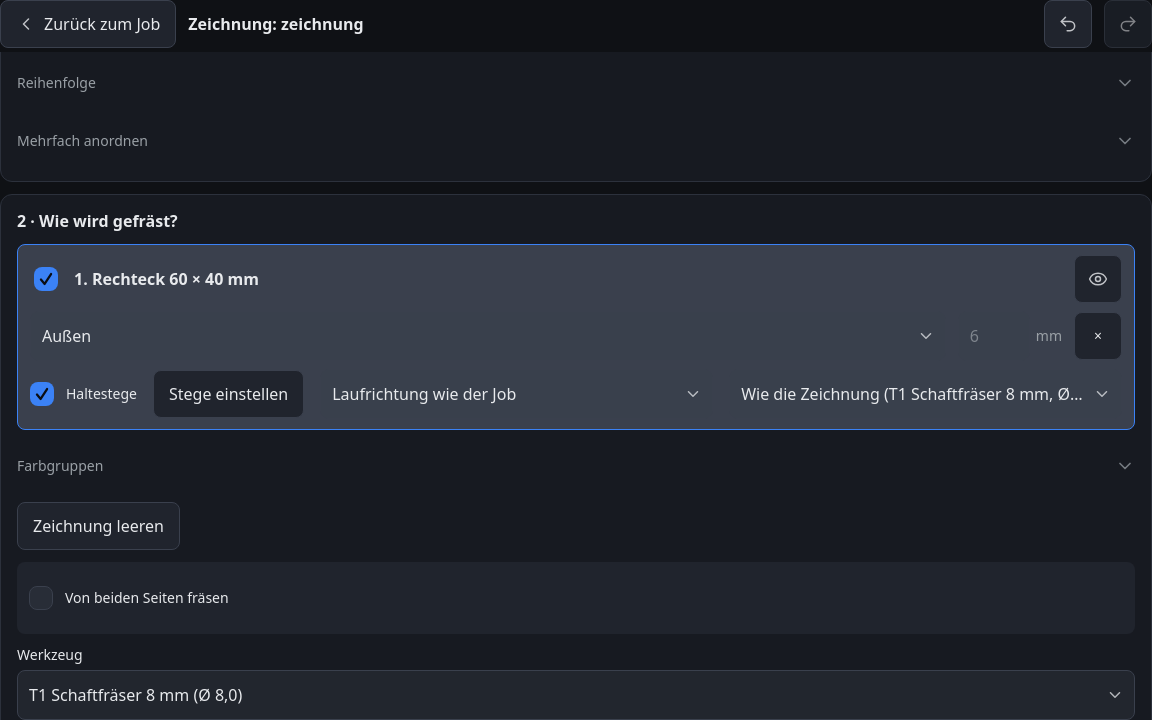
Test: the tab panel in the list of a drawing › opens only on demand: the button of the row opens it for that part, its own button closes it
Step 1. Click the button with test id "cam-tabs-open" → (229, 394), box x1=153 y1=370 x2=304 y2=418
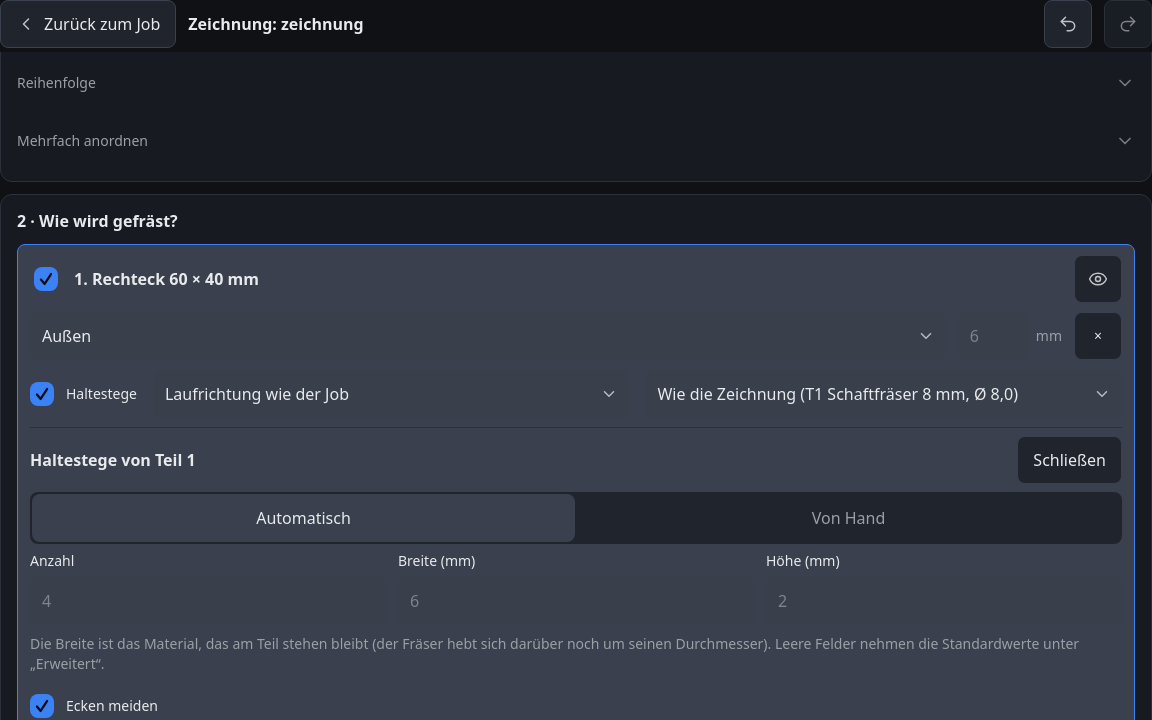
expect the button with test id "cam-tabs-open" is gone: met
Step 2. Click the button with test id "cam-tabs-close" → (1070, 460), box x1=1017 y1=436 x2=1122 y2=484
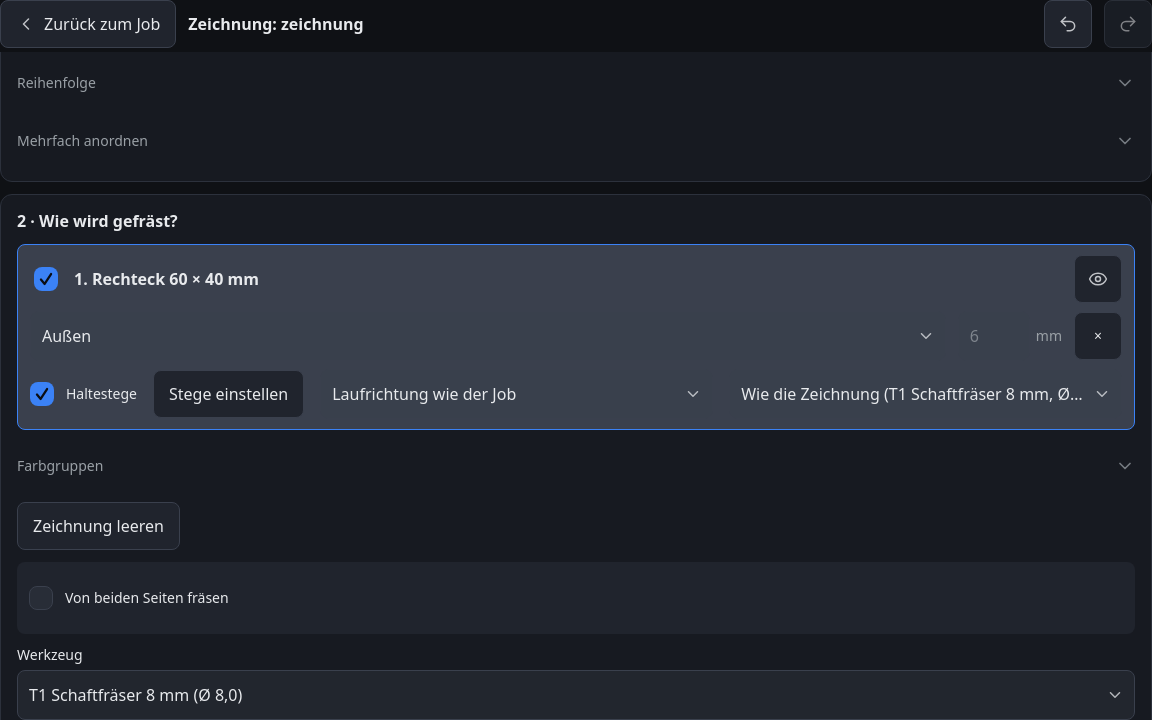
expect no elements with test id "cam-tabs" are shown: met
expect the button with test id "cam-tabs-open" is shown: met, box x1=153 y1=370 x2=304 y2=418
